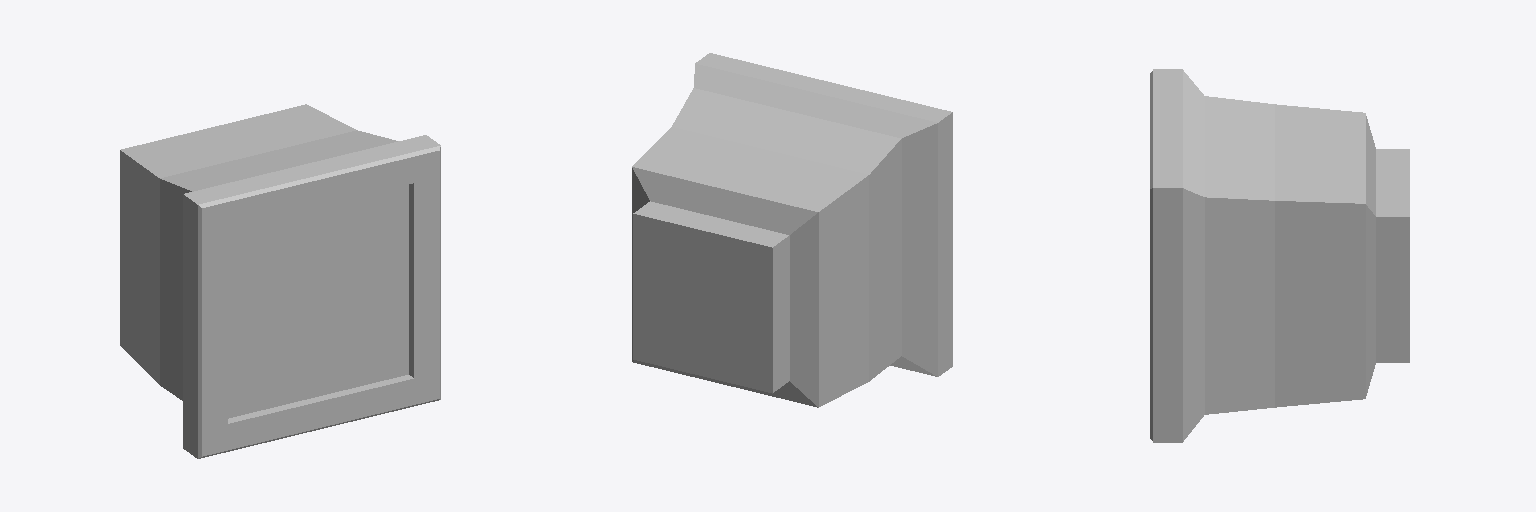
Rendered from Computer.obj.
3 renders of one model, left to right at view 1: azimuth 30°, elevation 25°; view 2: azimuth 150°, elevation 25°; view 3: azimuth 270°, elevation 25°, orthographic.
Visible parts, largest first — view 1: Cube; view 2: Cube; view 3: Cube.
Part boxes in pixels (bbox=[...]): Cube: bbox=[120, 104, 440, 458]; Cube: bbox=[632, 53, 952, 407]; Cube: bbox=[1150, 69, 1409, 442].
Bounding box in the file's own units: 2.6 × 2.6 × 2.41.